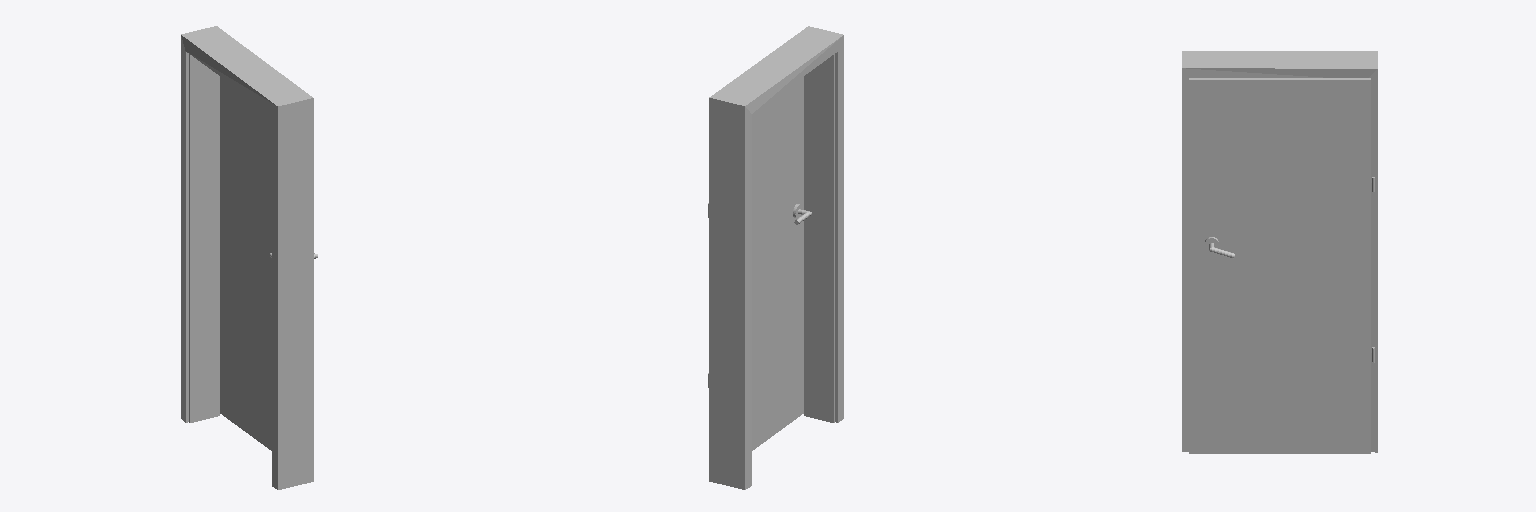
File: door40.obj
The picture shows the model from 3 angles: view 1: azimuth 30°, elevation 25°; view 2: azimuth 150°, elevation 25°; view 3: azimuth 270°, elevation 25°; orthographic projection.
Parts seen in each view (by area): view 1: Cylinder.005, Cylinder.001; view 2: Cylinder.005, Cylinder.001; view 3: Cylinder.001, Cylinder.005.
Part boxes in pixels (left/top/right/bottom): Cylinder.005: left=181, top=26, right=313, bottom=489; Cylinder.001: left=220, top=77, right=271, bottom=450; Cylinder.005: left=708, top=26, right=843, bottom=489; Cylinder.001: left=708, top=77, right=803, bottom=450; Cylinder.001: left=1189, top=78, right=1374, bottom=453; Cylinder.005: left=1182, top=51, right=1377, bottom=452.
Size of the model in its own units: 0.3039 by 2.05 by 0.95.